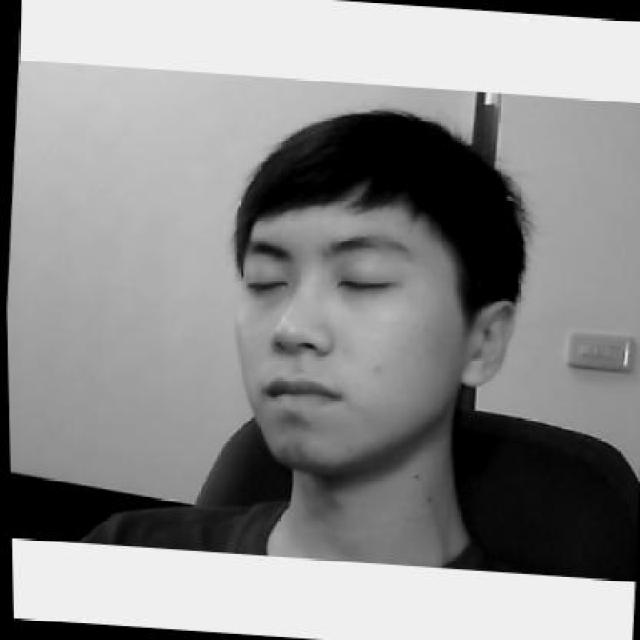inattentif: (214, 98, 531, 480)
